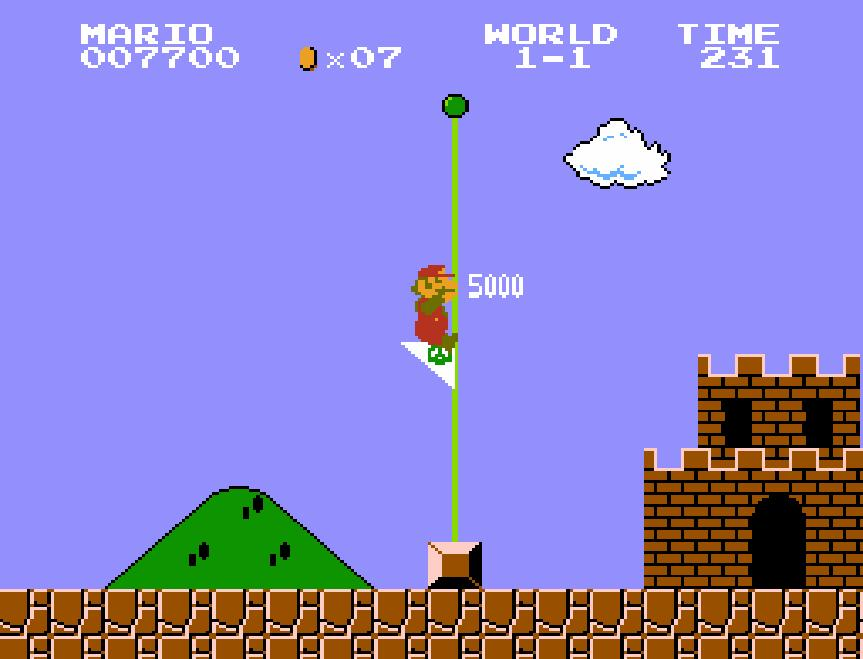big_mario: (402, 257, 461, 355)
